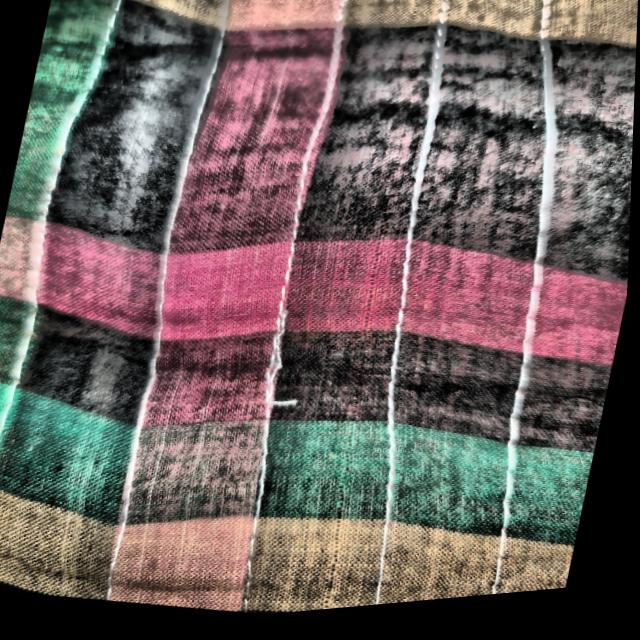Stitch: (230, 272, 345, 464)
